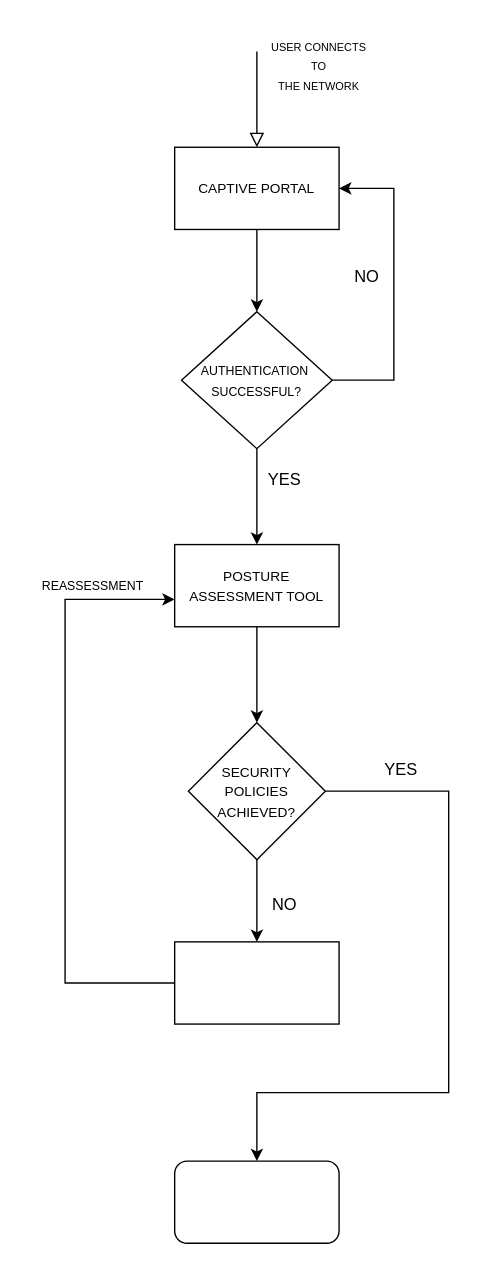
Image size: 484x1267. Some labels were removed from this diagram. The centre of each missing label's shape, as x and y in pixels:
"NETWORK ACCESS GRANTED" belongs at [256,1201].
"REMEDIATION SERVER" belongs at [256,982].
